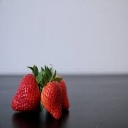strawberry: (8, 71, 45, 113), (40, 76, 64, 120)
